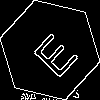E: (25, 25, 80, 80)
